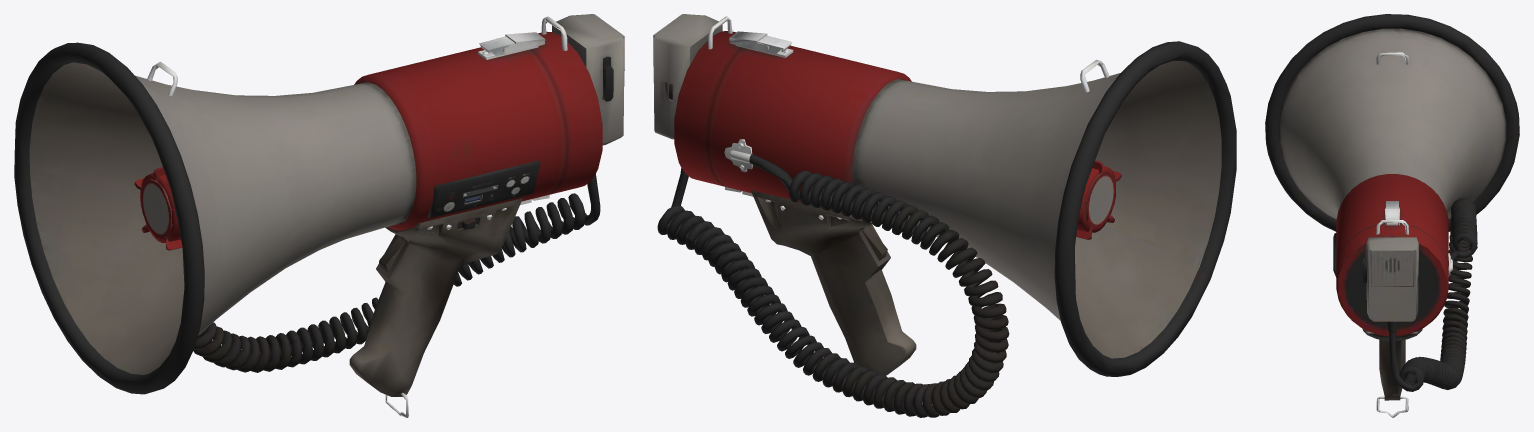
File: megaphone.glb
The picture shows the model from 3 angles, left to right: view 1: azimuth 30°, elevation 25°; view 2: azimuth 150°, elevation 25°; view 3: azimuth 270°, elevation 25°; orthographic projection. The views are drawn at different scales.
Visible parts, largest first — view 1: Megaphone_01; view 2: Megaphone_01; view 3: Megaphone_01.
Part boxes in pixels (<box>): Megaphone_01: <box>14,14,624,417</box>; Megaphone_01: <box>653,14,1236,417</box>; Megaphone_01: <box>1265,14,1519,417</box>.
Size of the model in its own units: 0.3707 by 0.3001 by 0.2284.
Materials: 1 (1 with a texture image).
